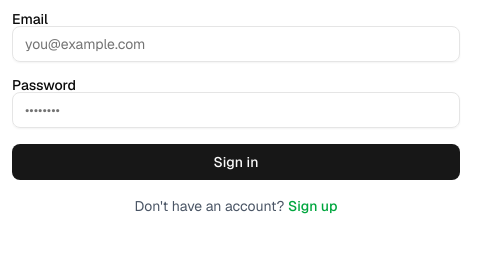
Scenario: LoginForm › blocks submission when validation fails
Type "invalid" into the field labelled "Email" at (236, 44), box top-left (12, 26), bottom-right (460, 62)
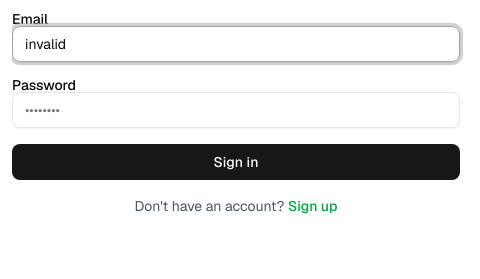
Click the button "Sign in" at (236, 162), box top-left (12, 144), bottom-right (460, 180)
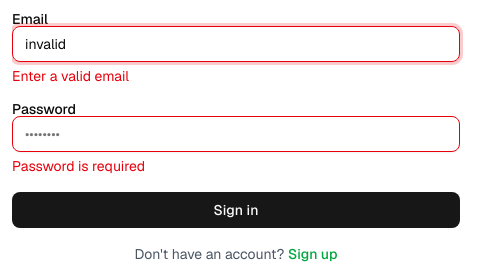
Expected: the text "Enter a valid email" is shown, top-left (12, 67), bottom-right (129, 85)
